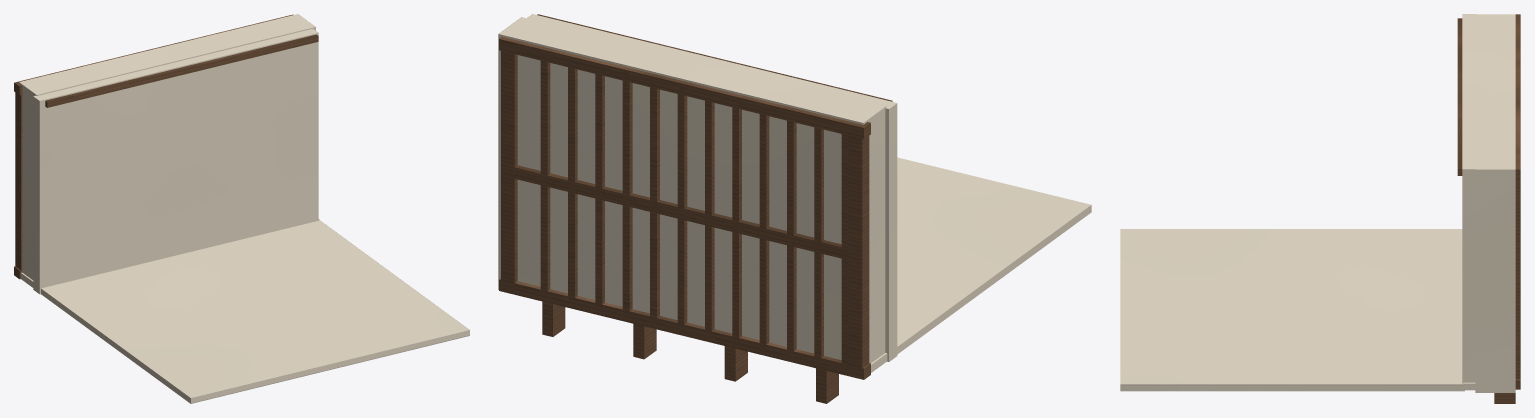
Rendered from med_wall_b_jetty.glb.
3 views of the same model, side by side, from view 1: azimuth 30°, elevation 25°; view 2: azimuth 150°, elevation 25°; view 3: azimuth 270°, elevation 25° (orthographic). The views are drawn at different scales.
Visible parts, largest first — view 1: med_wall_b_jetty; view 2: med_wall_b_jetty; view 3: med_wall_b_jetty.
Part boxes in pixels (box(x1,y1,x2,y2)): med_wall_b_jetty: box(14, 14, 469, 403); med_wall_b_jetty: box(498, 14, 1091, 403); med_wall_b_jetty: box(1120, 14, 1520, 403).
Bounding box in the file's own units: 4.04 × 3.04 × 4.36.
Materials: 1 (1 with a texture image).
